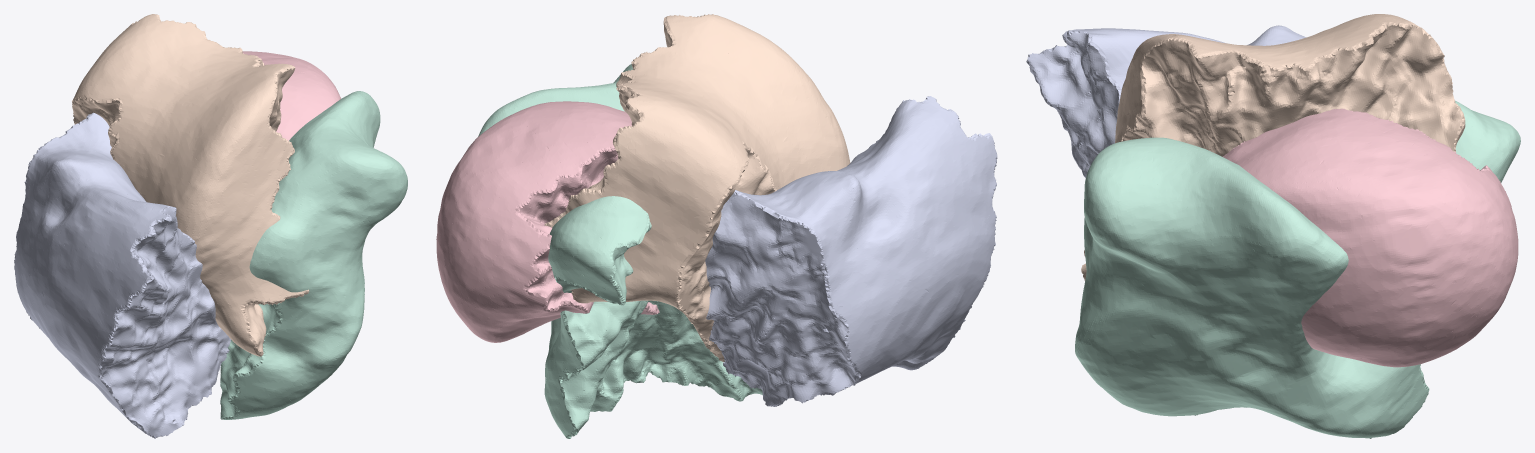
The model's file is view_input_colored.glb.
The picture shows the model from 3 angles, left to right: view 1: azimuth 30°, elevation 25°; view 2: azimuth 150°, elevation 25°; view 3: azimuth 270°, elevation 25°; orthographic projection. The views are drawn at different scales.
Visible parts, largest first — view 1: world; view 2: world; view 3: world.
Boxes of the visible parts, box(x1,y1,x2,y2) form: world: box(14, 14, 407, 438); world: box(436, 14, 997, 438); world: box(1026, 14, 1520, 438).
Bounding box in the file's own units: 0.683 × 0.5888 × 0.6712.
